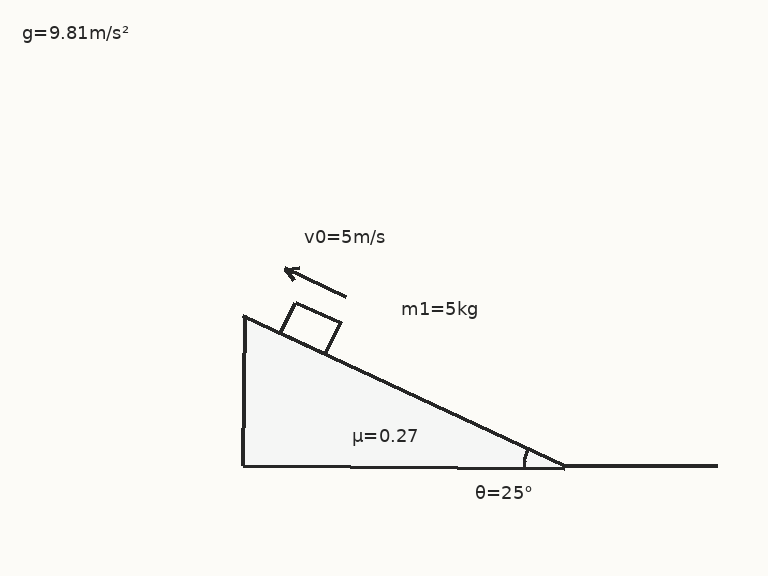block: (278, 299, 342, 356)
ramp: (240, 314, 566, 468)
